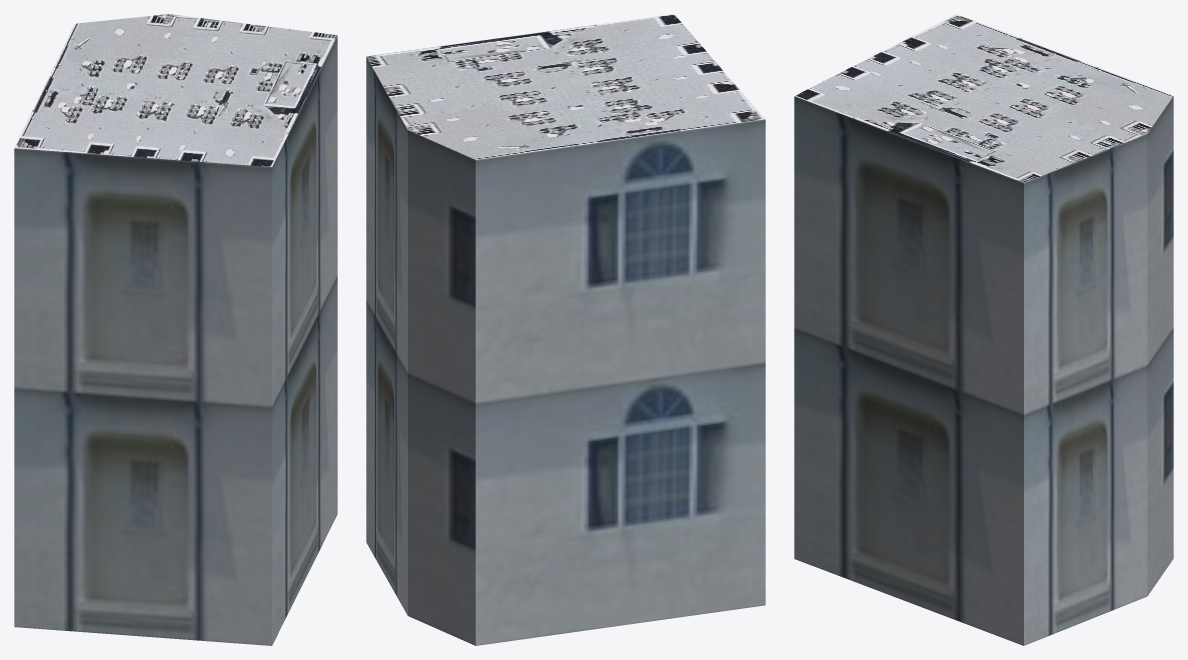
Rendered from ResTex__2787.fbx.
The picture shows the model from 3 angles, left to right: view 1: azimuth 30°, elevation 25°; view 2: azimuth 150°, elevation 25°; view 3: azimuth 270°, elevation 25°; orthographic projection. The views are drawn at different scales.
Parts seen in each view (by area): view 1: CityEngineMaterial_17_m, CityEngineMaterial_2_m; view 2: CityEngineMaterial_17_m, CityEngineMaterial_2_m; view 3: CityEngineMaterial_17_m, CityEngineMaterial_2_m.
Part boxes in pixels (bbox=[...]): CityEngineMaterial_17_m: bbox=[14, 36, 337, 645]; CityEngineMaterial_2_m: bbox=[14, 14, 337, 166]; CityEngineMaterial_17_m: bbox=[366, 57, 765, 645]; CityEngineMaterial_2_m: bbox=[366, 14, 764, 159]; CityEngineMaterial_17_m: bbox=[794, 96, 1173, 645]; CityEngineMaterial_2_m: bbox=[794, 14, 1173, 182].
Bounding box in the file's own units: 4.7 × 6 × 4.46.
2 materials, 2 textured.
